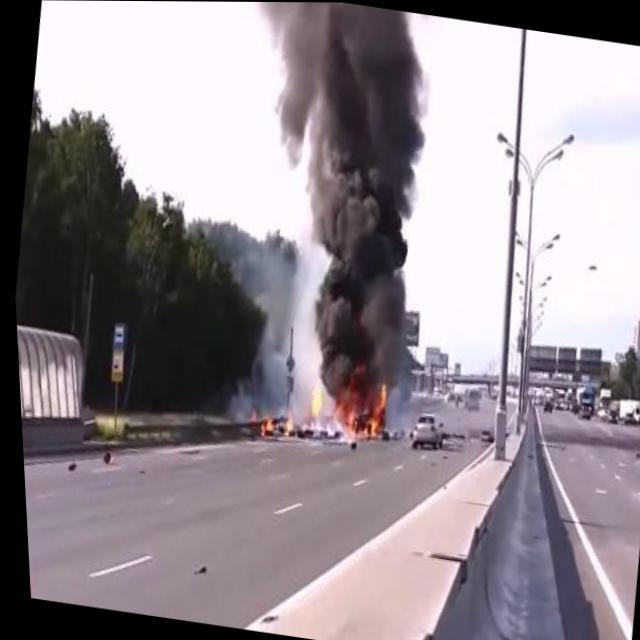fire: (322, 367, 393, 448), (297, 371, 325, 434), (253, 412, 275, 441), (276, 406, 293, 442), (243, 406, 254, 424)
